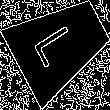L_NE: (33, 19, 87, 71)
